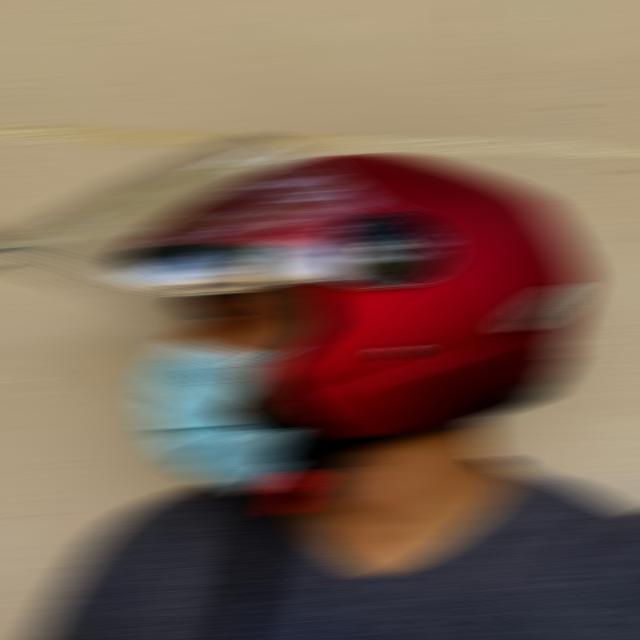With Helmet: (0, 130, 591, 444)
